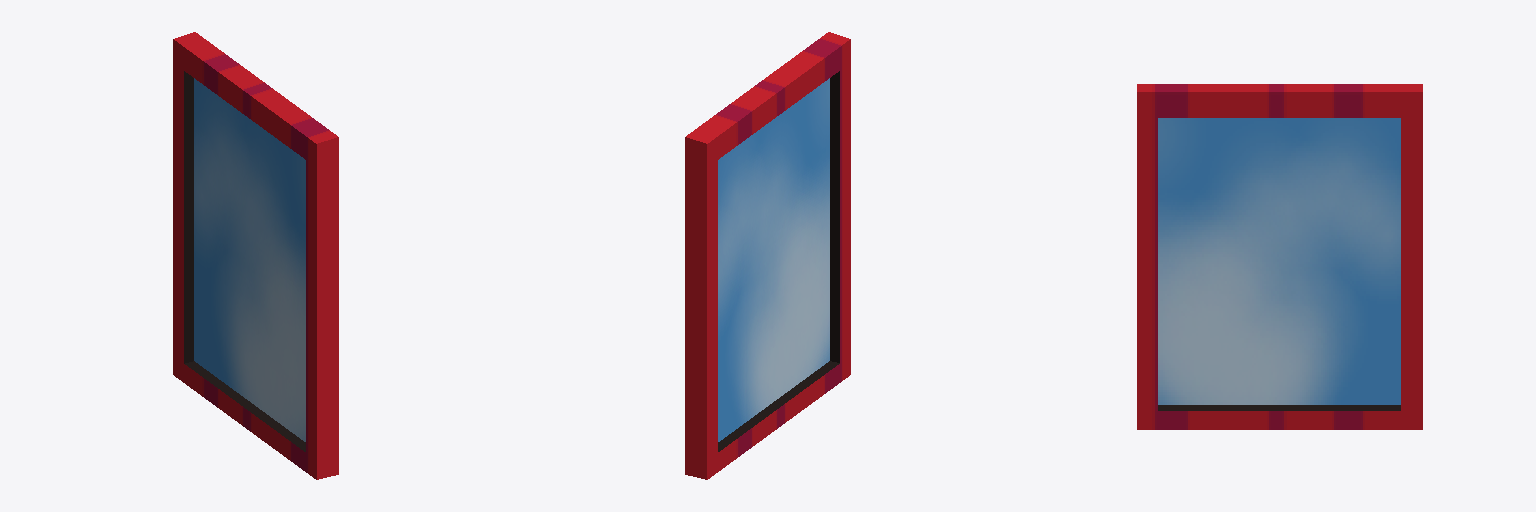
3 renders of one model, left to right at view 1: azimuth 30°, elevation 25°; view 2: azimuth 150°, elevation 25°; view 3: azimuth 270°, elevation 25°, orthographic.
Visible parts, largest first — view 1: door1:pCube13, door1:pCube12; view 2: door1:pCube13, door1:pCube12; view 3: door1:pCube13, door1:pCube12.
Part boxes in pixels (bbox=[...]): door1:pCube13: bbox=[194, 78, 305, 441]; door1:pCube12: bbox=[173, 32, 338, 479]; door1:pCube13: bbox=[718, 78, 829, 441]; door1:pCube12: bbox=[685, 32, 850, 479]; door1:pCube13: bbox=[1158, 118, 1400, 404]; door1:pCube12: bbox=[1137, 84, 1422, 429].
Size of the model in its own units: 1.99 by 29.01 by 22.31.
3 materials, 3 textured.